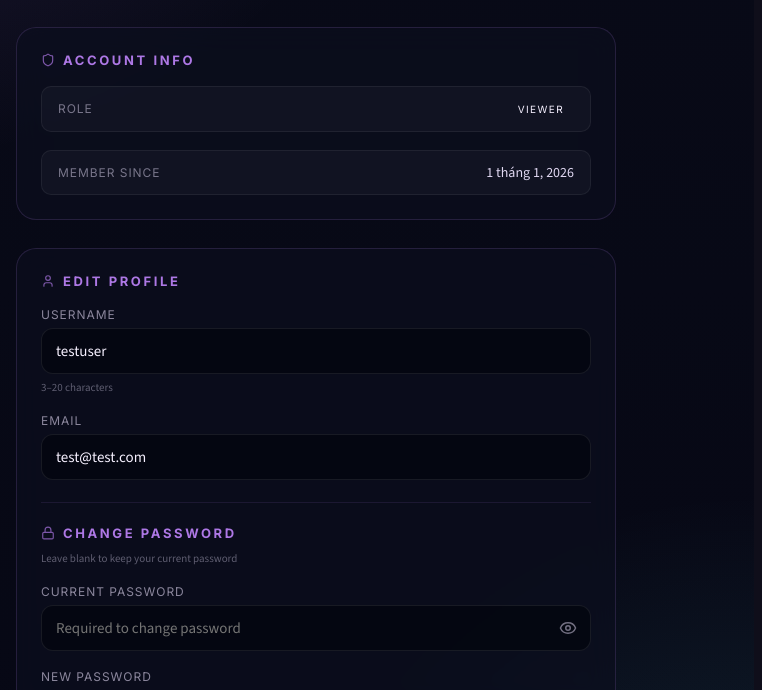
Test case: ProfilePage — Signed In › resets fields when Reset button is clicked
This screenshot has width=762, height=690.
(page scrolled)
Replace the text in the field showing "testuser" below "Username" with "changed": coordinates (316, 351) [41,328,591,374]
(page scrolled)
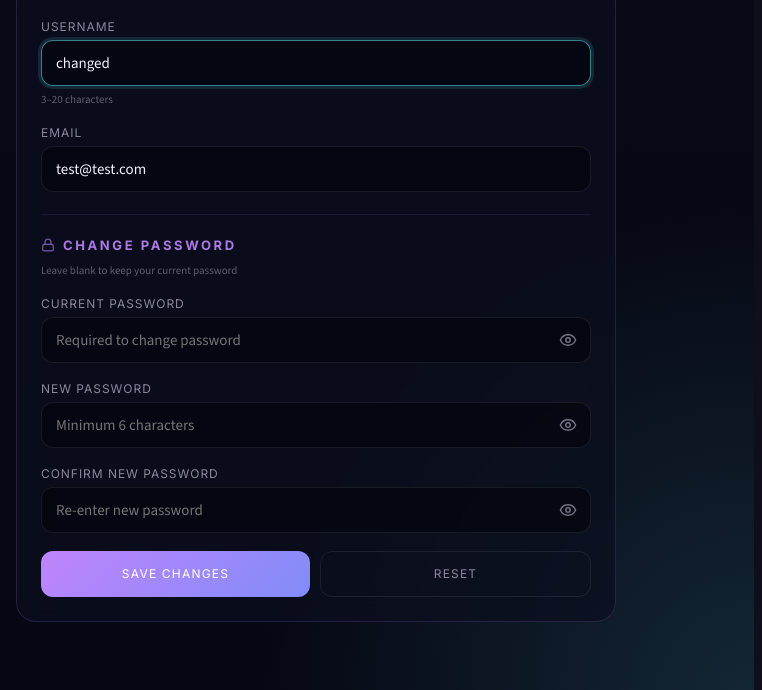
Click the button "Reset": coordinates (456, 574) [320,551,591,597]
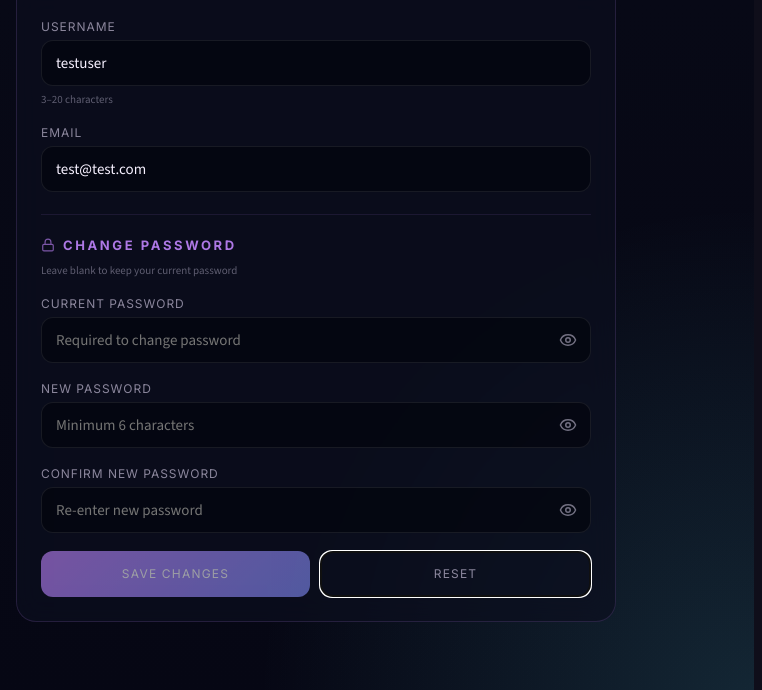
Result: the field showing "testuser" below "Username" is shown at [41,40,591,86]
